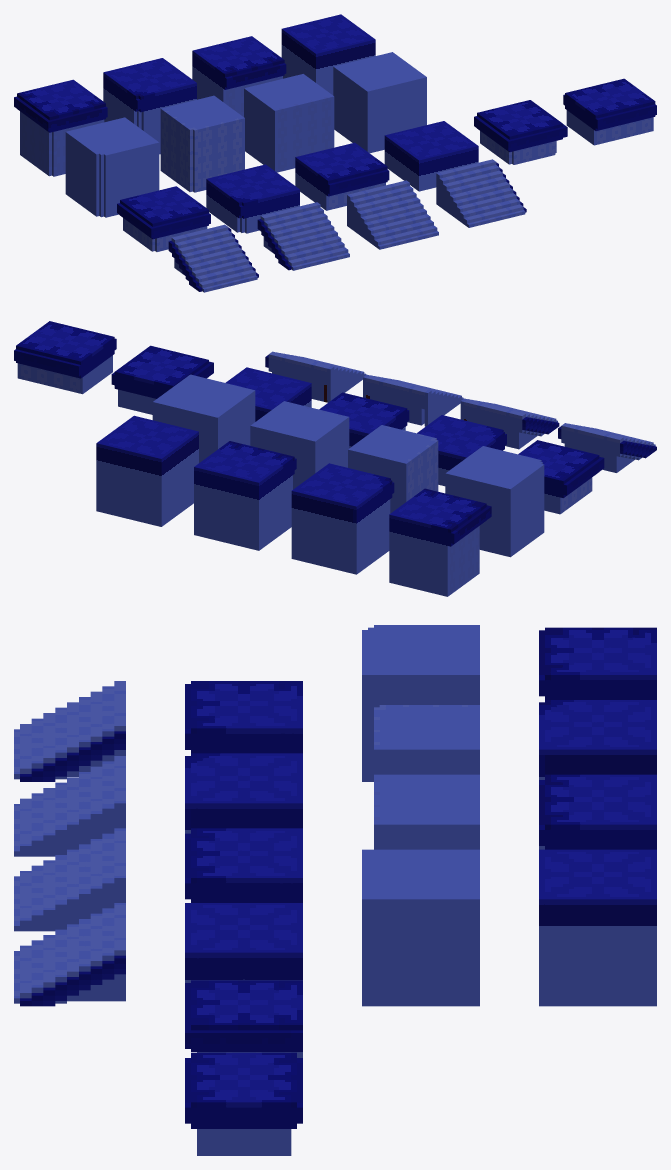
File: world_4_tiles.glb
The picture shows the model from 3 angles, top to bottom: view 1: azimuth 30°, elevation 25°; view 2: azimuth 150°, elevation 25°; view 3: azimuth 270°, elevation 25°; orthographic projection. The views are drawn at different scales.
Visible parts, largest first — view 1: full_corner, full_no_edge, full_edge, full_turn, full_top_turn, full_top_corner, full_top_no_edge, half_top_middle, full_top_edge, half_top_ramp_bot_mid, half_top_no_edge, half_top_corner (+6 smaller); view 2: full_top_no_edge, full_top_corner, full_top_edge, full_top_turn, full_corner, full_no_edge, half_top_middle, full_edge, full_turn, half_top_end, half_top_turn, half_top_corner (+6 smaller); view 3: full_no_edge, full_top_no_edge, half_top_middle, full_corner, half_top_no_edge, half_top_corner, full_top_edge, full_top_corner, half_top_edge, half_top_ramp_bot_right, half_top_end, full_top_turn (+6 smaller).
Boxes of the visible parts, box(x1,y1,x2,y2) form: full_corner: box(65, 117, 159, 217); full_no_edge: box(333, 52, 426, 153); full_edge: box(244, 74, 334, 172); full_turn: box(160, 95, 244, 192); full_top_turn: box(14, 79, 107, 176); full_top_corner: box(103, 58, 196, 154); full_top_no_edge: box(281, 14, 375, 95); half_top_middle: box(563, 78, 656, 145); full_top_edge: box(192, 36, 286, 116); half_top_ramp_bot_mid: box(347, 180, 438, 249); half_top_no_edge: box(384, 121, 478, 191); half_top_corner: box(206, 164, 299, 233); full_top_no_edge: box(96, 415, 198, 526); full_top_corner: box(291, 463, 394, 574); full_top_edge: box(194, 441, 296, 550); full_top_turn: box(389, 488, 491, 596); full_corner: box(445, 446, 544, 557); full_no_edge: box(152, 374, 255, 462); half_top_middle: box(14, 321, 116, 394); full_edge: box(250, 401, 349, 489); full_turn: box(348, 425, 438, 513); half_top_end: box(111, 345, 213, 414); half_top_turn: box(518, 440, 604, 514); half_top_corner: box(417, 415, 506, 486); full_no_edge: box(362, 849, 479, 1006); full_top_no_edge: box(539, 849, 656, 1006); half_top_middle: box(185, 1052, 302, 1155); full_corner: box(362, 625, 479, 781); half_top_no_edge: box(185, 903, 302, 982); half_top_corner: box(185, 753, 302, 833); full_top_edge: box(539, 774, 656, 849); full_top_corner: box(539, 700, 656, 849); half_top_edge: box(185, 828, 302, 902); half_top_ramp_bot_right: box(14, 903, 125, 1006); half_top_end: box(185, 980, 302, 1057); full_top_turn: box(539, 627, 656, 699).
Size of the model in its own units: 17 by 2 by 10.9.
Materials: 18 (18 with a texture image).
